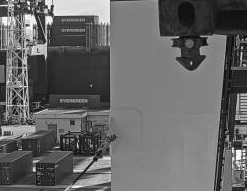twist_lock_2: (167, 30, 211, 76)
